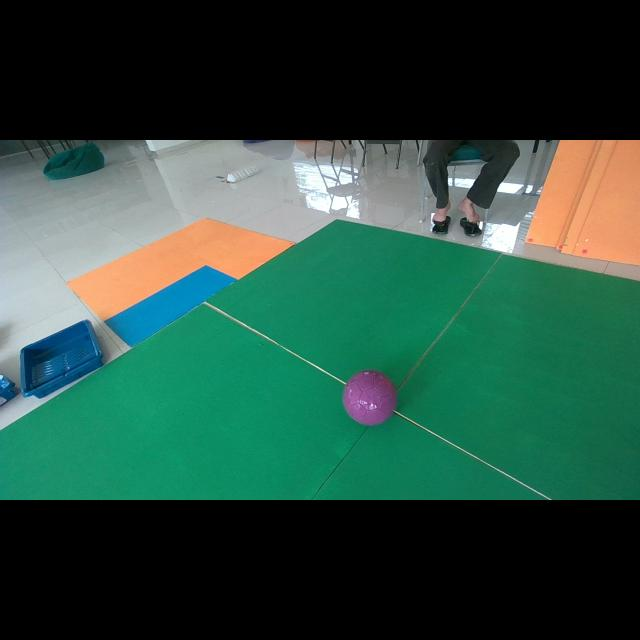P: (342, 370, 398, 425)
